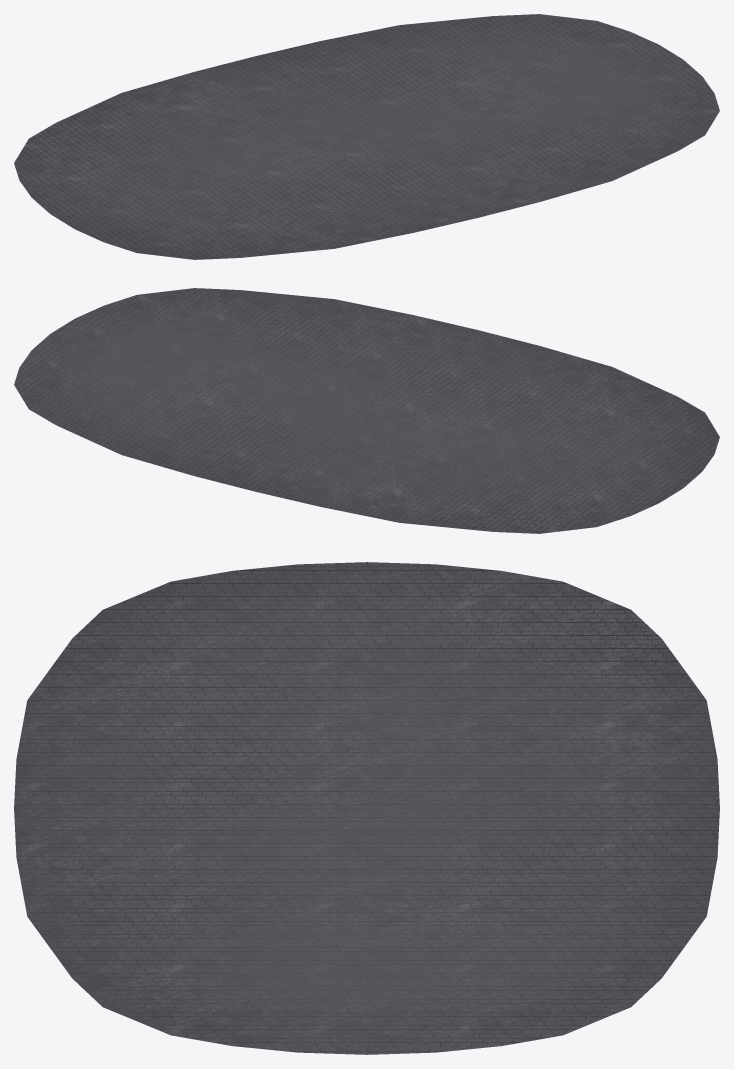
The model's file is Stonepavement_map.fbx.
3 views of the same model, one above another, from view 1: azimuth 30°, elevation 25°; view 2: azimuth 150°, elevation 25°; view 3: azimuth 270°, elevation 25° (orthographic). The views are drawn at different scales.
Visible parts, largest first — view 1: Stonepavement; view 2: Stonepavement; view 3: Stonepavement.
Boxes of the visible parts, bbox=[...] form: Stonepavement: bbox=[14, 14, 719, 259]; Stonepavement: bbox=[14, 288, 719, 533]; Stonepavement: bbox=[14, 562, 719, 1054].
Bounding box in the file's own units: 3271 × 0 × 1980.
1 material, 1 textured.
